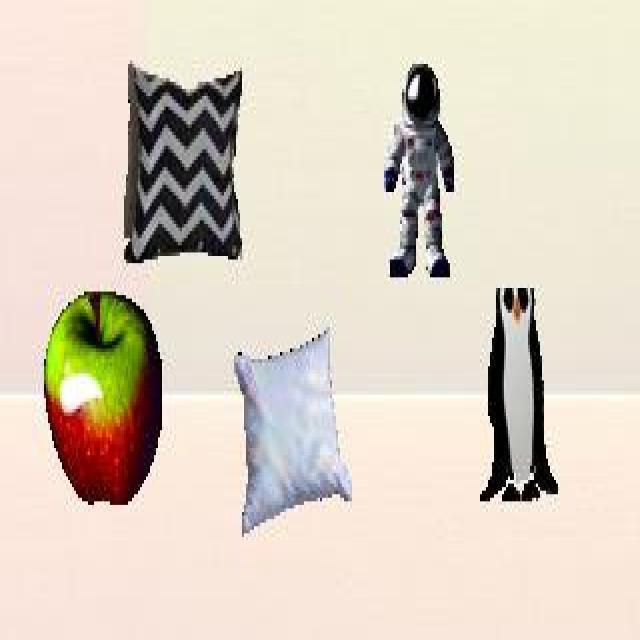Other Objects: (232, 324, 352, 538), (44, 289, 162, 506), (124, 59, 243, 264), (384, 60, 454, 278)
